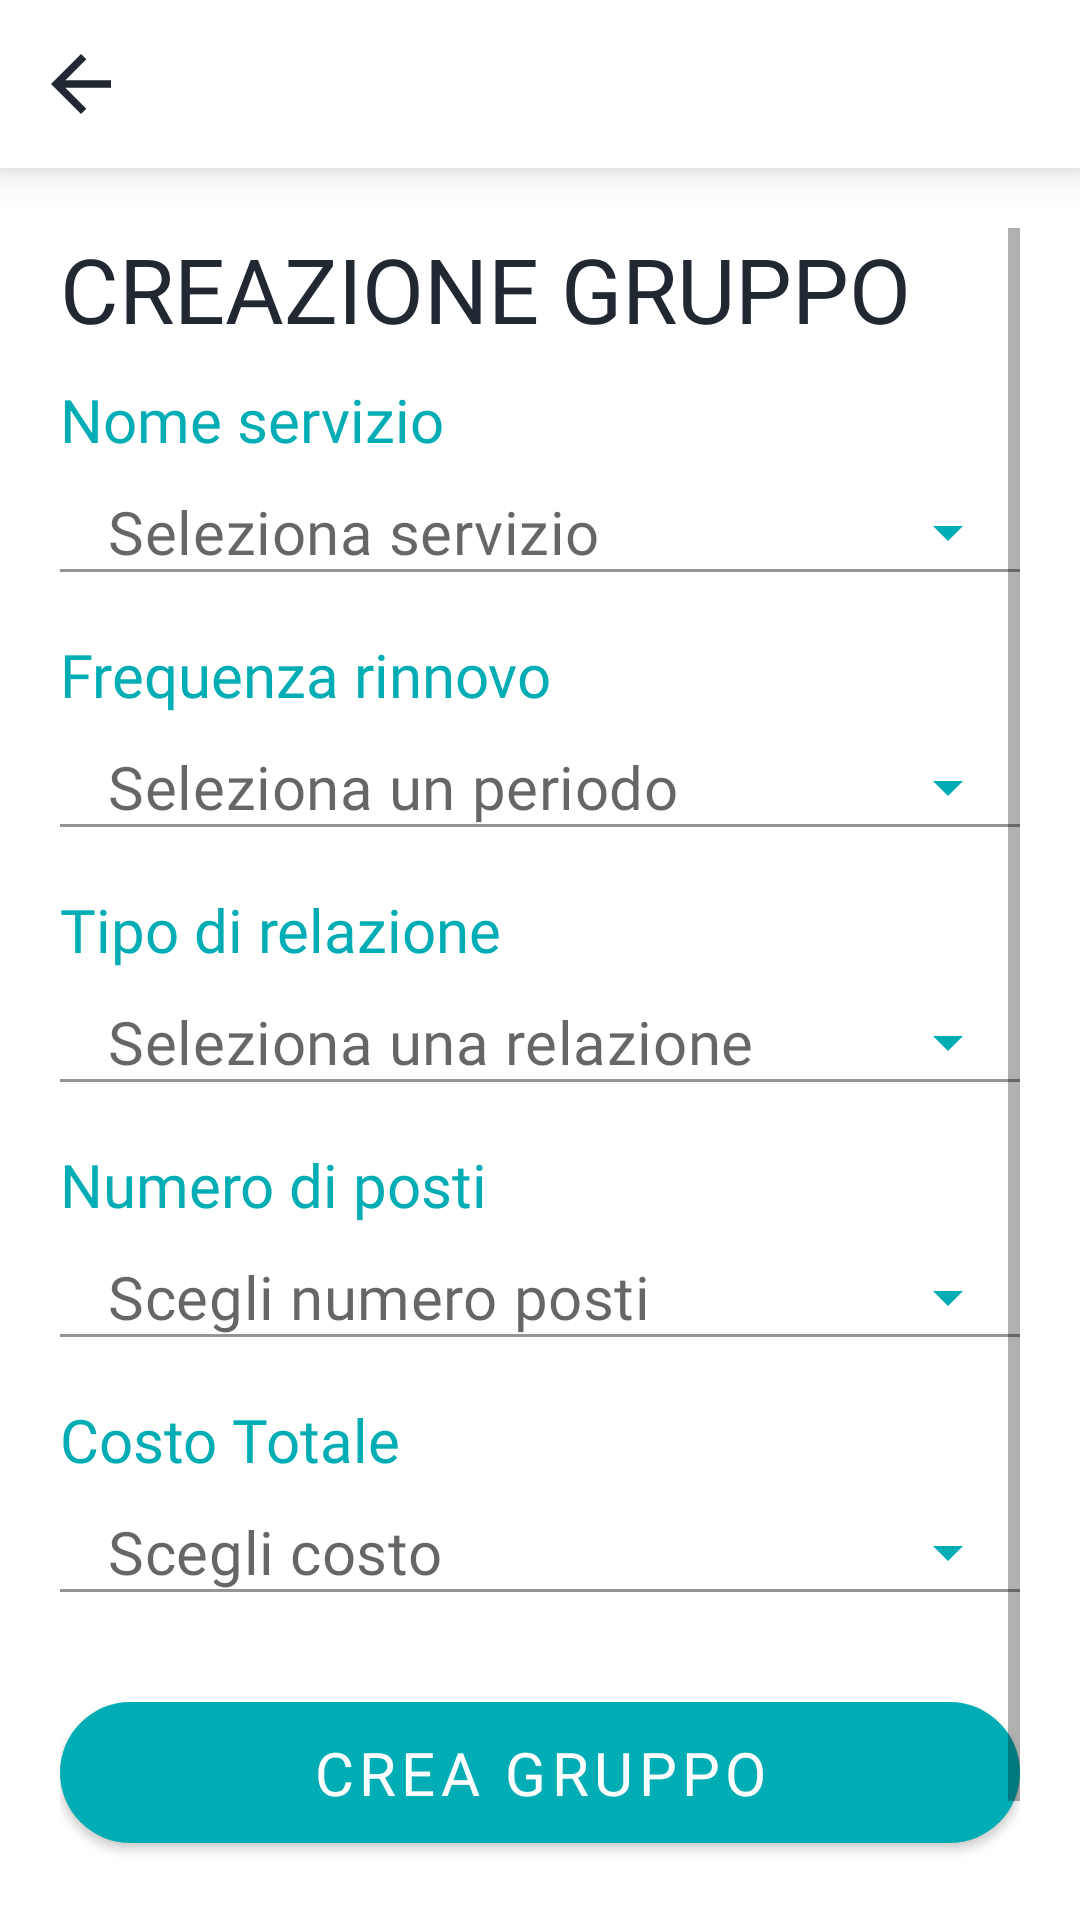

Point at icon controls on the screen. Image size 1080 × 1920, points as (x=x, y=y).
arrow back: (x=81, y=84)
